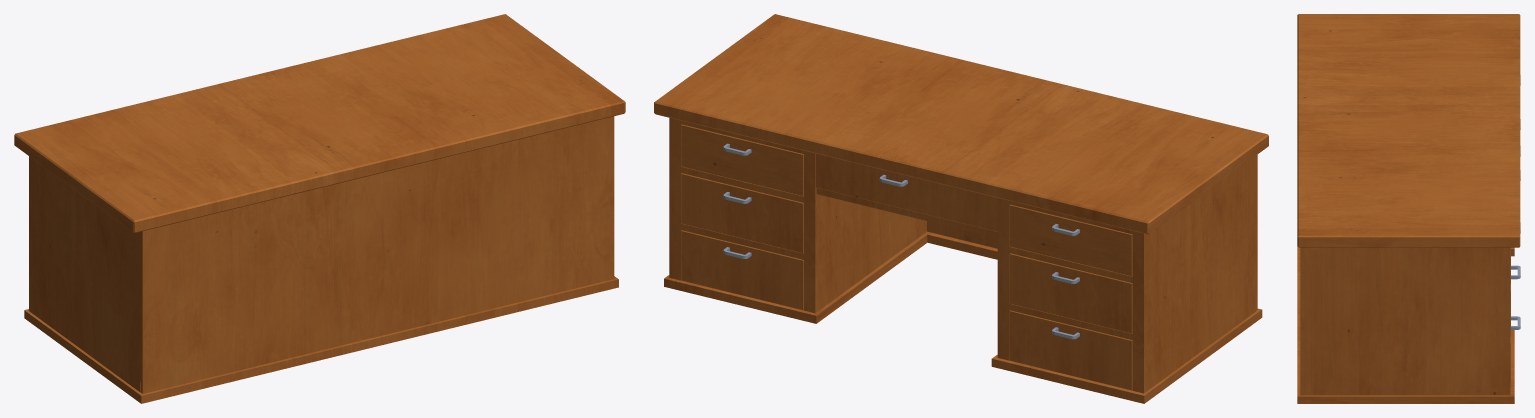
File: TeacherDesk.fbx
The picture shows the model from 3 angles, left to right: view 1: azimuth 30°, elevation 25°; view 2: azimuth 150°, elevation 25°; view 3: azimuth 270°, elevation 25°; orthographic projection. The views are drawn at different scales.
Visible parts, largest first — view 1: TeacherDesk; view 2: TeacherDesk; view 3: TeacherDesk.
Boxes of the visible parts, x1,y1,x2,y2 form: TeacherDesk: (14,14,625,403); TeacherDesk: (654,14,1268,403); TeacherDesk: (1297,14,1520,403).
Size of the model in its own units: 213 by 76.07 by 90.06.
Materials: 1 (1 with a texture image).
